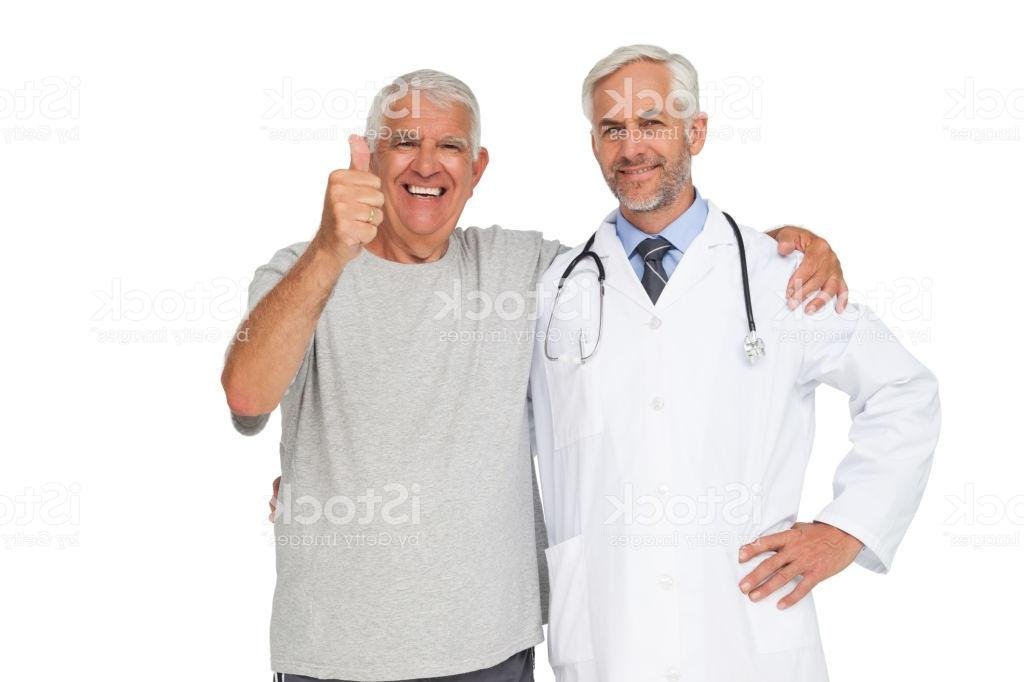thumbsup: (326, 133, 386, 251)
